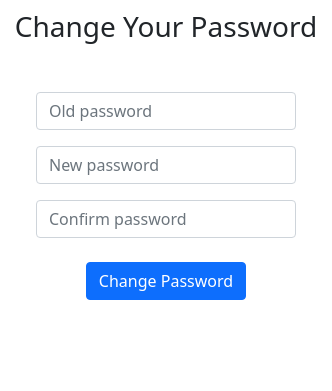
Scenario: Testing EditPassword component › Testing the component when the input fields are empty
Note: clicking the change password button
Click the button "Change Password": (166, 281) [86,262,246,300]
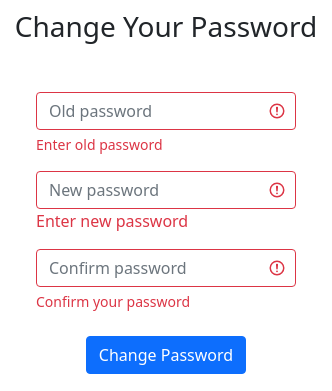
Expected: the text "Enter new password" is shown, [36,210,188,232]
Expected: the text "Enter old password" is shown, [36,135,163,154]
Expected: the text "Confirm your password" is shown, [36,292,190,311]
